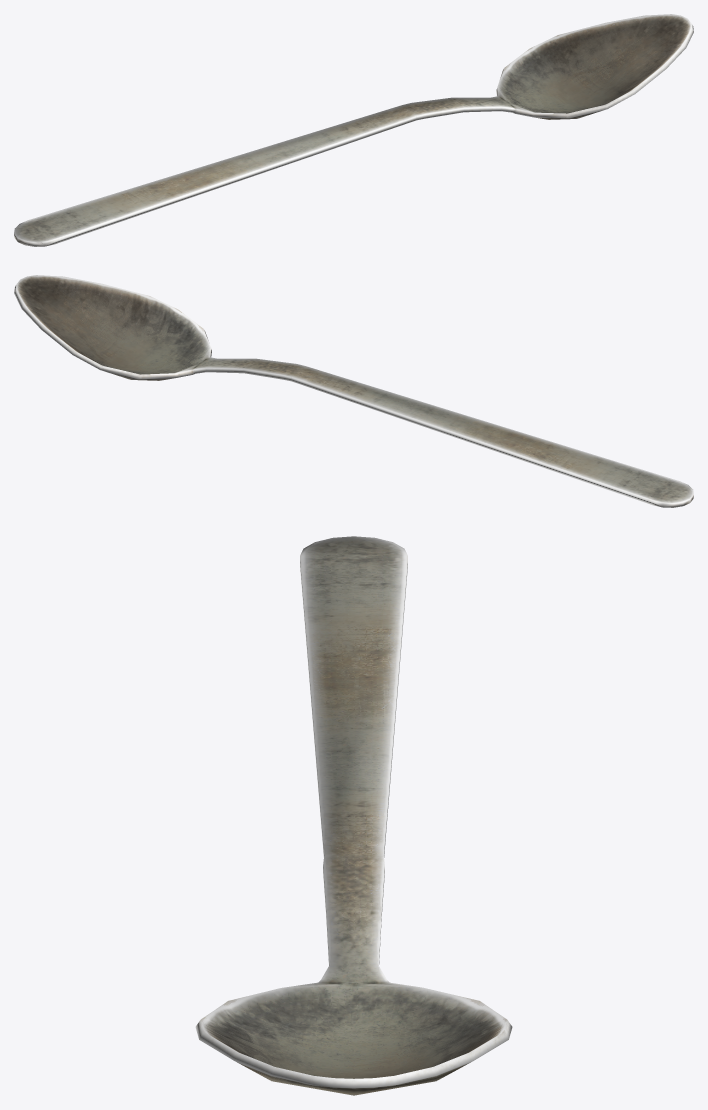
Rendered from SM_spoon.fbx.
3 renders of one model, top to bottom at view 1: azimuth 30°, elevation 25°; view 2: azimuth 150°, elevation 25°; view 3: azimuth 270°, elevation 25°, orthographic. The views are drawn at different scales.
Parts seen in each view (by area): view 1: SM_spoon; view 2: SM_spoon; view 3: SM_spoon.
Boxes of the visible parts, bbox=[...] form: SM_spoon: bbox=[14, 14, 693, 246]; SM_spoon: bbox=[14, 275, 693, 507]; SM_spoon: bbox=[195, 536, 512, 1095].
Bounding box in the file's own units: 36.75 × 7.51 × 3.14.
1 material, 1 textured.
